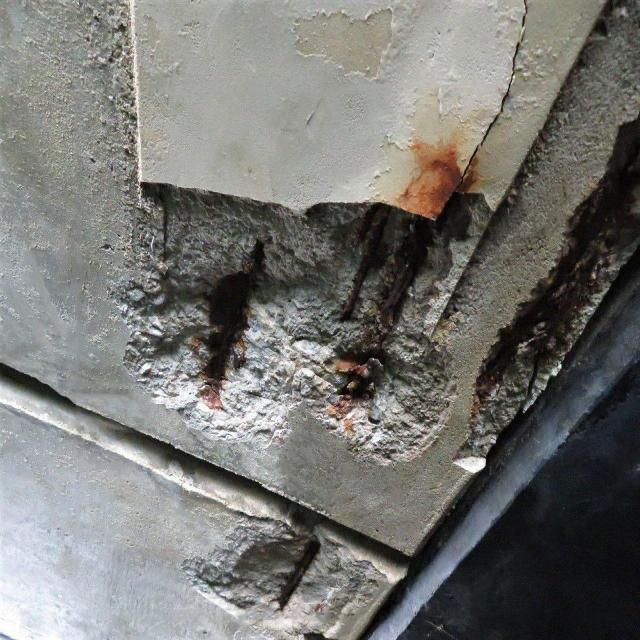Rebar: (118, 183, 496, 465), (452, 112, 640, 474), (176, 510, 387, 637)
vertical crack: (451, 0, 528, 189)
